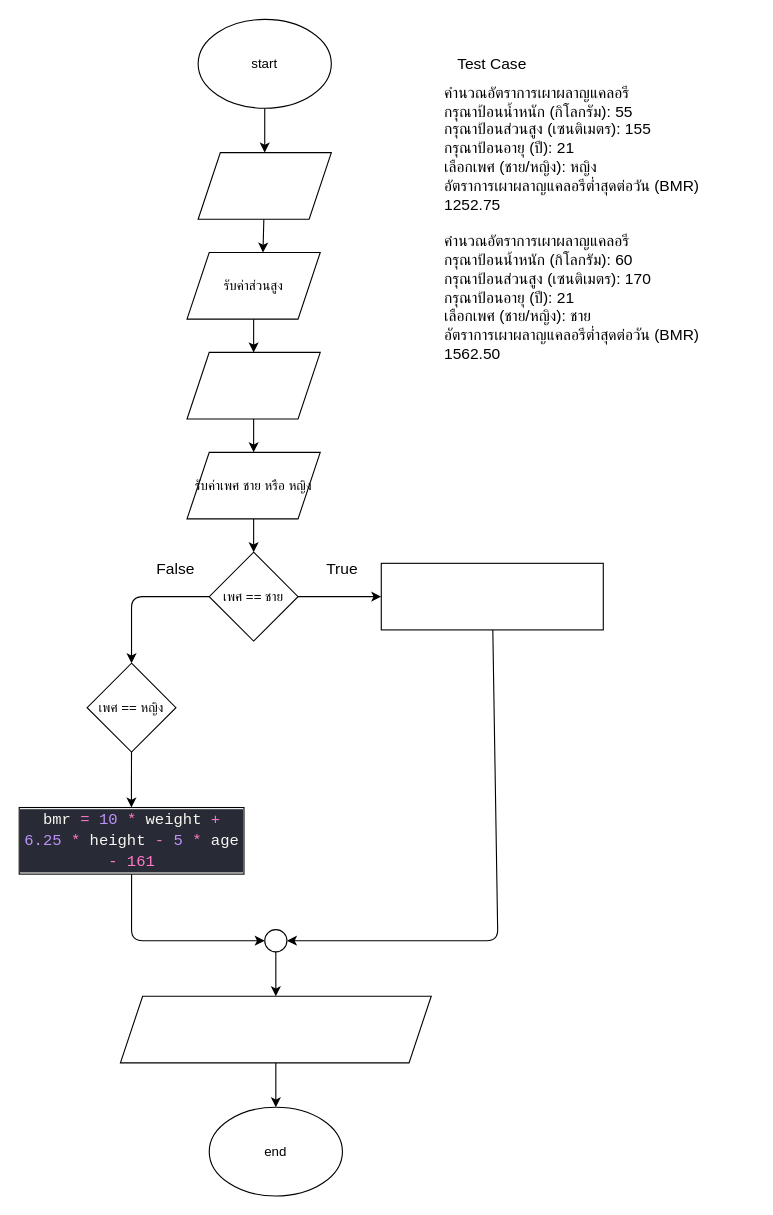
Image size: 773x1215. Some labels were removed from this diagram. The centre of each missing label's shape, as x and y in pixels:
"bmr = 10 * weight + 6.25 * height - 5 * age + 5" goes at point 491,596.
"รับค่าน้ำหนัก" goes at point 264,185.
"รับค่าอายุ" goes at point 253,385.
"แสดง อัตราการเผาผลาญแคลอรีต่ำสุดต่อวัน (BMR)" goes at point 275,1029.
